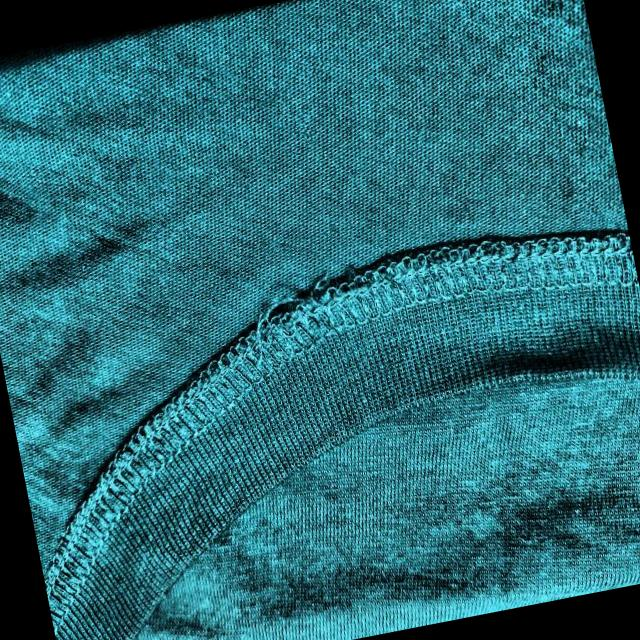seam: (0, 212, 640, 640), (117, 612, 318, 640)
